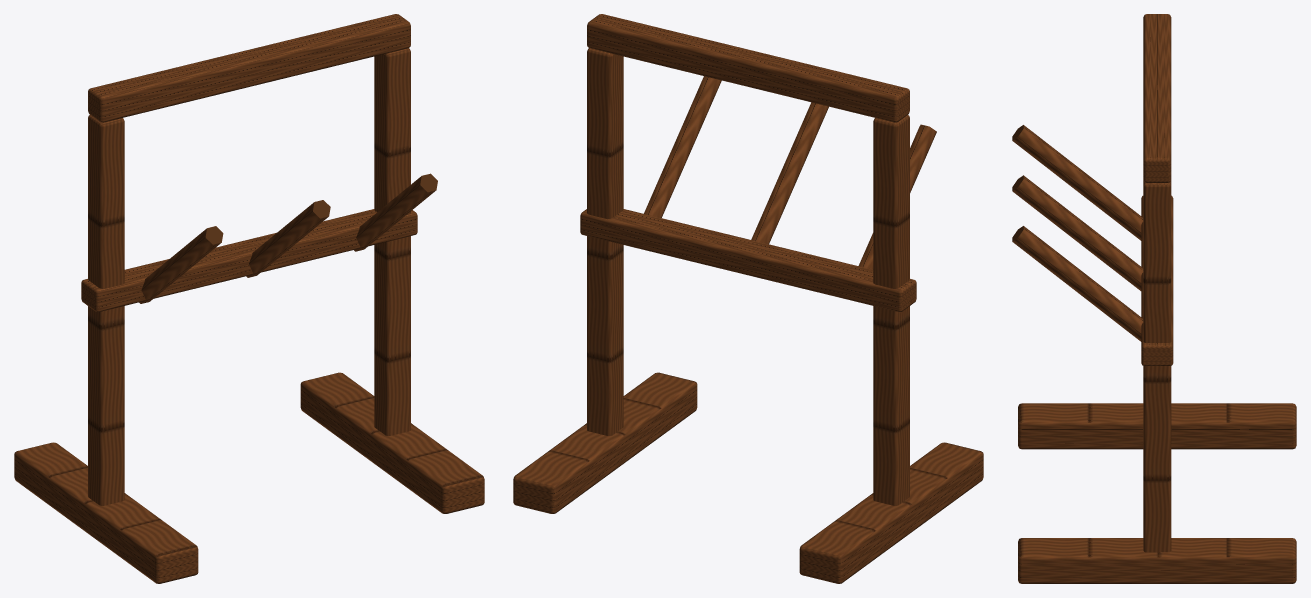
File: wilderness-survival-camp-boot-drying-rack-dcdbe55e__21968.glb
3 renders of one model, left to right at view 1: azimuth 30°, elevation 25°; view 2: azimuth 150°, elevation 25°; view 3: azimuth 270°, elevation 25°, orthographic. The views are drawn at different scales.
Visible parts, largest first — view 1: boot-drying-rack; view 2: boot-drying-rack; view 3: boot-drying-rack.
Part boxes in pixels (x1,y1,x2,y2): boot-drying-rack: (14, 14, 484, 583); boot-drying-rack: (513, 14, 983, 583); boot-drying-rack: (1012, 14, 1296, 583).
Size of the model in its own units: 0.9201 by 1.17 by 0.7141.
1 material, 1 textured.
